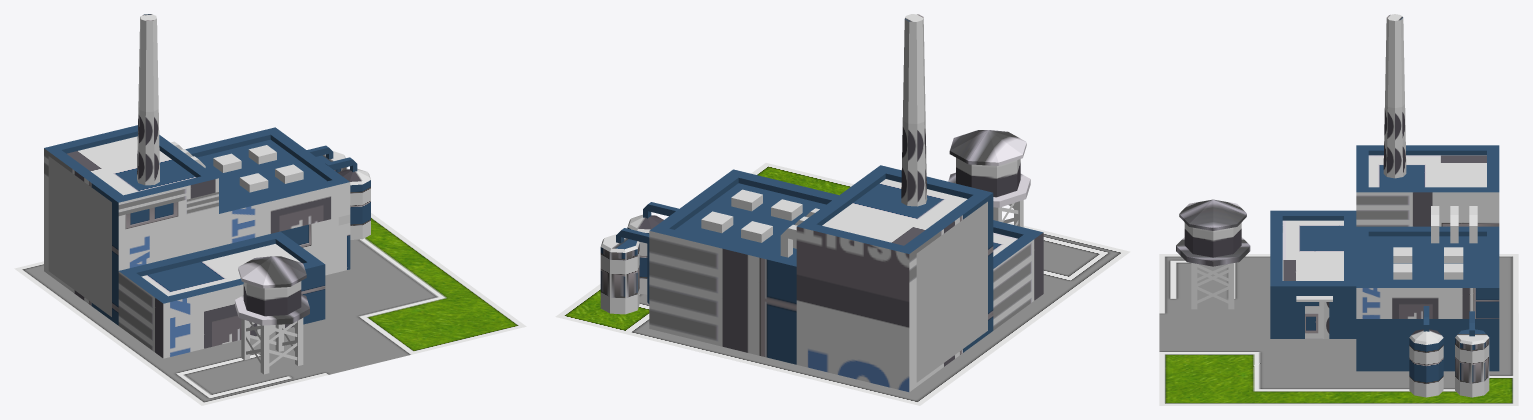
File: Smelter_Plant_lvl_2.fbx
3 renders of one model, left to right at view 1: azimuth 30°, elevation 25°; view 2: azimuth 150°, elevation 25°; view 3: azimuth 270°, elevation 25°, orthographic. The views are drawn at different scales.
Visible parts, largest first — view 1: Smelter_Plant_Lvl_2, Smelter_Plant_BG, Graffiti_001, Smelter_Plant_Lvl_2.001; view 2: Smelter_Plant_Lvl_2, Smelter_Plant_BG, Graffiti_001; view 3: Smelter_Plant_Lvl_2, Smelter_Plant_BG, Smelter_Plant_Lvl_2.001.
Boxes of the visible parts, bbox=[...] form: Smelter_Plant_Lvl_2: bbox=[44, 14, 370, 374]; Smelter_Plant_BG: bbox=[14, 213, 526, 405]; Graffiti_001: bbox=[48, 156, 111, 316]; Smelter_Plant_Lvl_2.001: bbox=[246, 321, 297, 366]; Smelter_Plant_Lvl_2: bbox=[600, 14, 1043, 392]; Smelter_Plant_BG: bbox=[555, 163, 1130, 405]; Graffiti_001: bbox=[916, 201, 987, 382]; Smelter_Plant_Lvl_2: bbox=[1176, 14, 1499, 397]; Smelter_Plant_BG: bbox=[1159, 254, 1518, 405]; Smelter_Plant_Lvl_2.001: bbox=[1197, 264, 1228, 303].
Bounding box in the file's own units: 2000 × 1654 × 2000.
